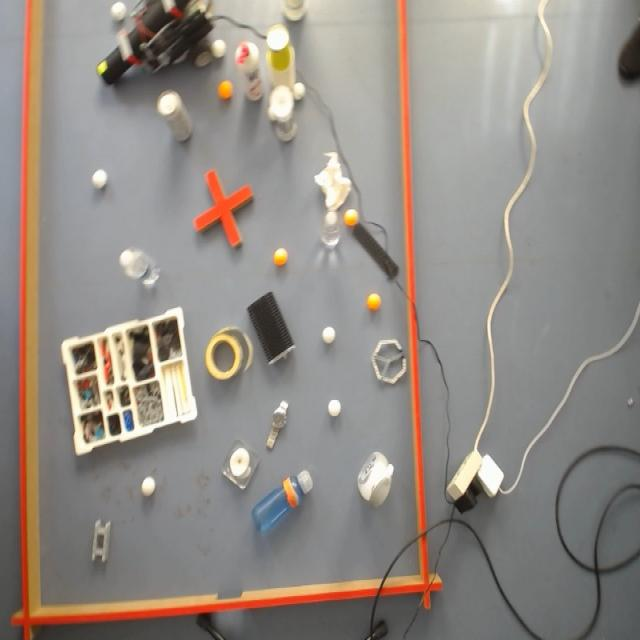orange: (366, 292, 382, 312), (218, 80, 232, 100), (344, 209, 358, 226)
robot: (96, 1, 213, 83)
white: (141, 476, 157, 500), (327, 397, 342, 420), (110, 1, 127, 21), (91, 169, 108, 189), (321, 325, 336, 347), (211, 38, 226, 58), (97, 58, 111, 78), (292, 81, 306, 99)
